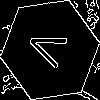V: (25, 25, 76, 73)
